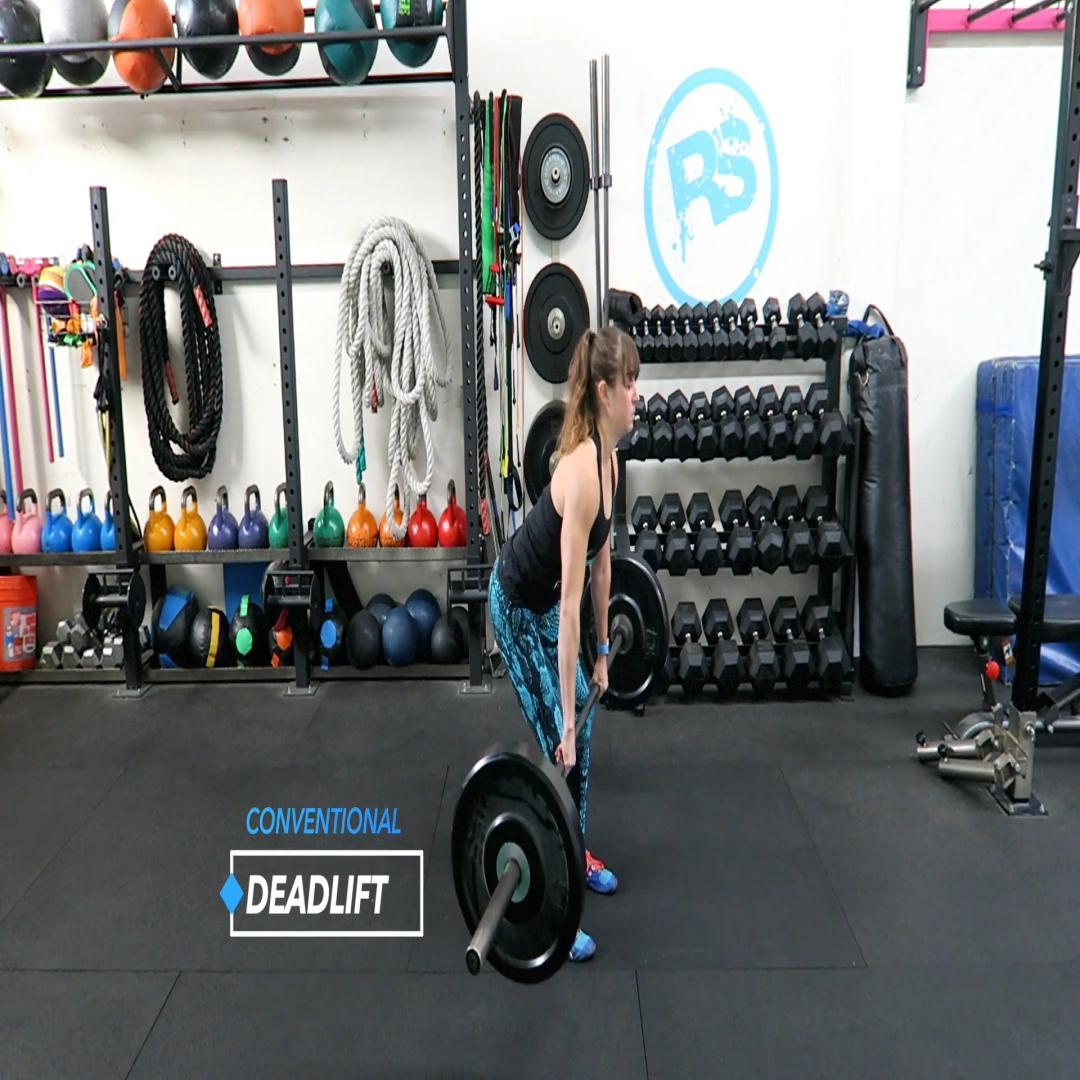Bar: (464, 945, 481, 977)
Barbell: (451, 753, 581, 985)
